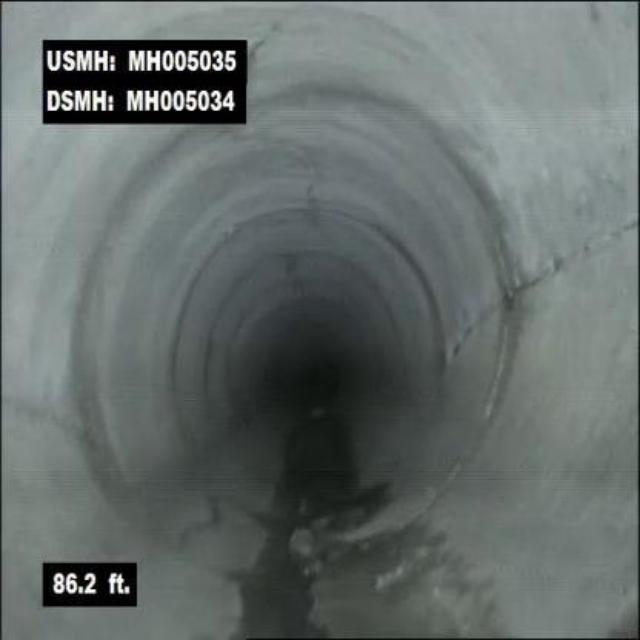Buckling: (285, 522, 355, 634)
Crack: (503, 218, 638, 294), (169, 491, 231, 565), (249, 23, 294, 65)
